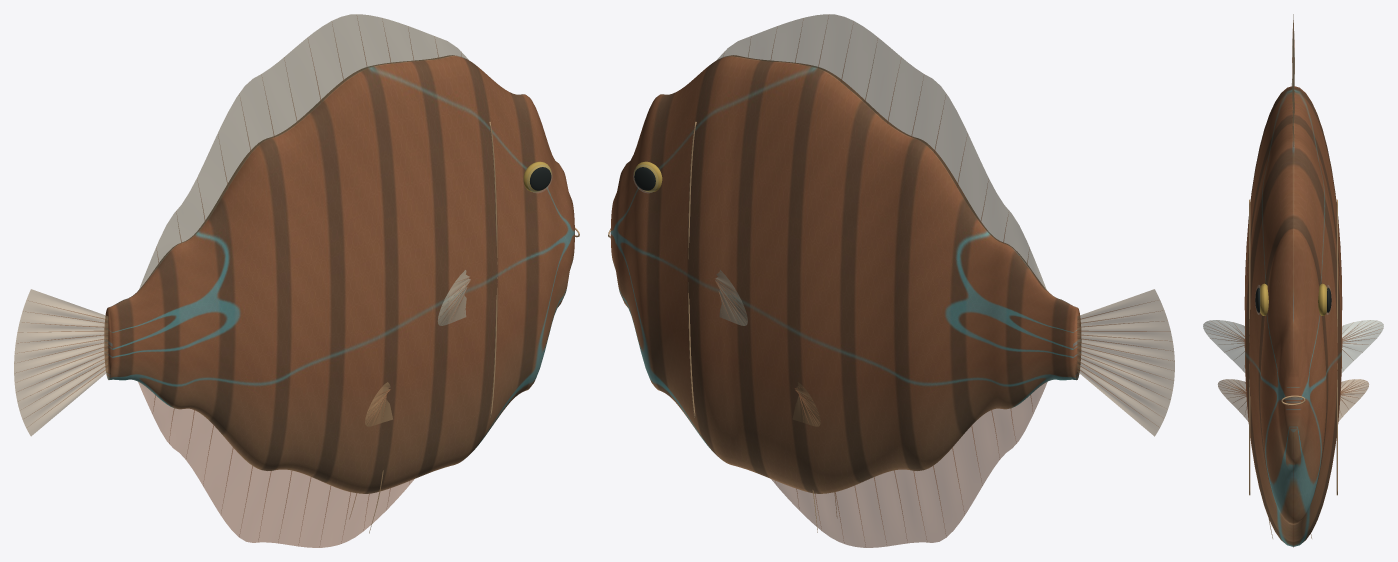
The model's file is discus-desktop.glb.
The picture shows the model from 3 angles, left to right: view 1: azimuth 30°, elevation 25°; view 2: azimuth 150°, elevation 25°; view 3: azimuth 270°, elevation 25°; orthographic projection.
Visible parts, largest first — view 1: skin, dorsal, anal, tail, dorsal-ray, pectoral-left, pelvic-left; view 2: skin, dorsal, anal, tail, dorsal-ray, pectoral-left, pelvic-left; view 3: skin, pectoral-left, pelvic-left, operculum, dorsal-ray, eye-iris--1, dorsal.
Boxes of the visible parts, x1,y1,x2,y2 form: skin: [104, 55, 574, 493]; dorsal: [139, 14, 468, 289]; anal: [138, 382, 414, 547]; tail: [14, 289, 108, 436]; dorsal-ray: [16, 16, 470, 546]; pectoral-left: [438, 270, 470, 325]; pelvic-left: [349, 382, 392, 533]; skin: [610, 55, 1081, 493]; dorsal: [717, 14, 1046, 290]; anal: [771, 382, 1047, 547]; tail: [1077, 289, 1174, 436]; dorsal-ray: [714, 18, 1172, 546]; pectoral-left: [715, 270, 747, 325]; pelvic-left: [792, 382, 836, 532]; skin: [1244, 86, 1342, 546]; pectoral-left: [1203, 320, 1383, 372]; pelvic-left: [1218, 379, 1368, 538]; operculum: [1249, 199, 1337, 495]; dorsal-ray: [1207, 20, 1380, 412]; eye-iris--1: [1259, 283, 1327, 315]; dorsal: [1292, 14, 1294, 154].
Size of the model in its own units: 0.5972 by 0.5359 by 0.167.
11 materials, 1 textured.
